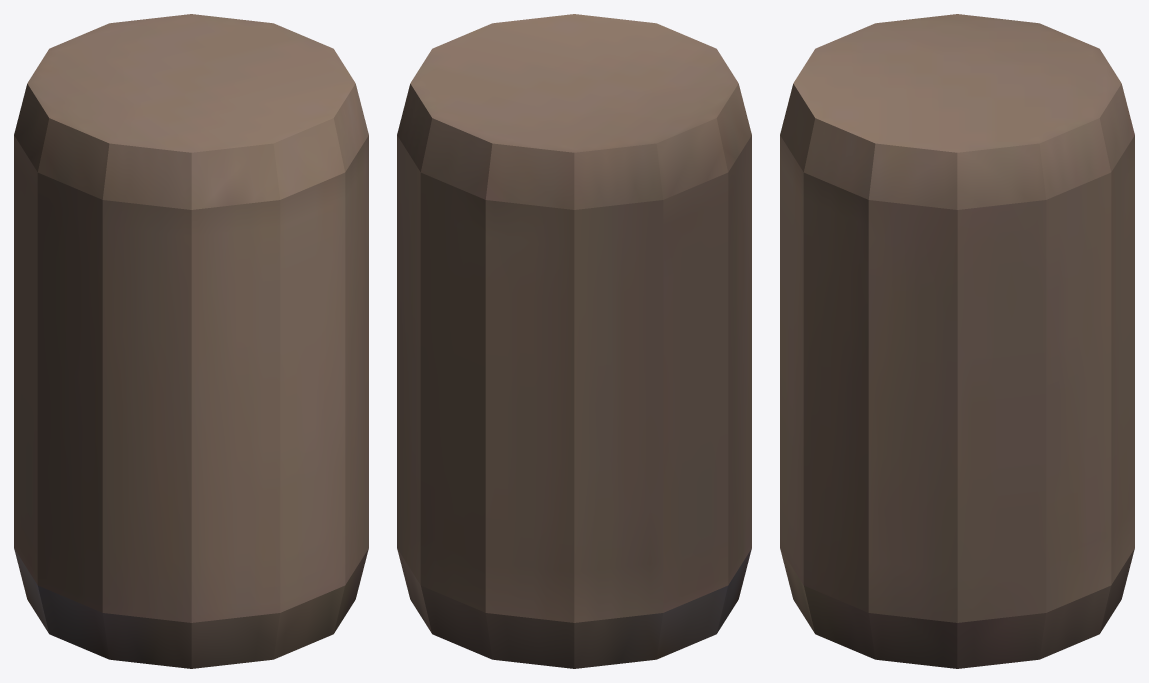
3 views of the same model, side by side, from view 1: azimuth 30°, elevation 25°; view 2: azimuth 150°, elevation 25°; view 3: azimuth 270°, elevation 25° (orthographic).
Visible parts, largest first — view 1: DENGZI; view 2: DENGZI; view 3: DENGZI.
Part boxes in pixels (x1=…): DENGZI: x1=14, y1=14, x2=368, y2=668; DENGZI: x1=397, y1=14, x2=751, y2=668; DENGZI: x1=780, y1=14, x2=1134, y2=668.
Size of the model in its own units: 74.91 by 120 by 74.91.
1 material, 1 textured.
